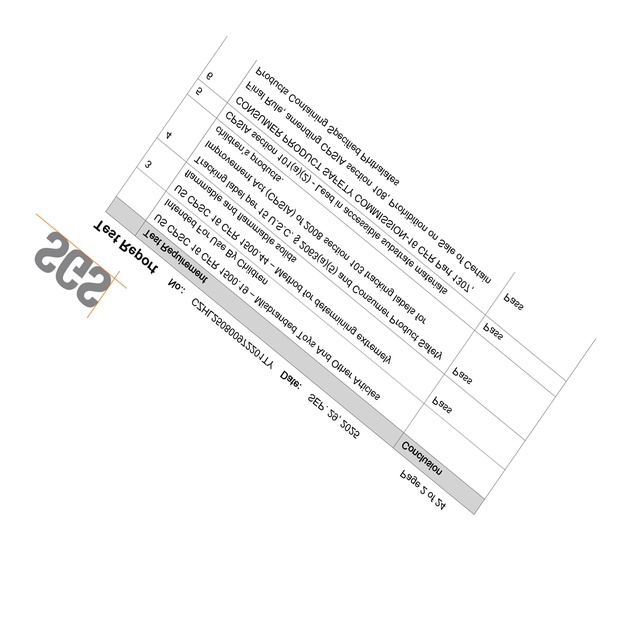sgs: (34, 229, 112, 309)
